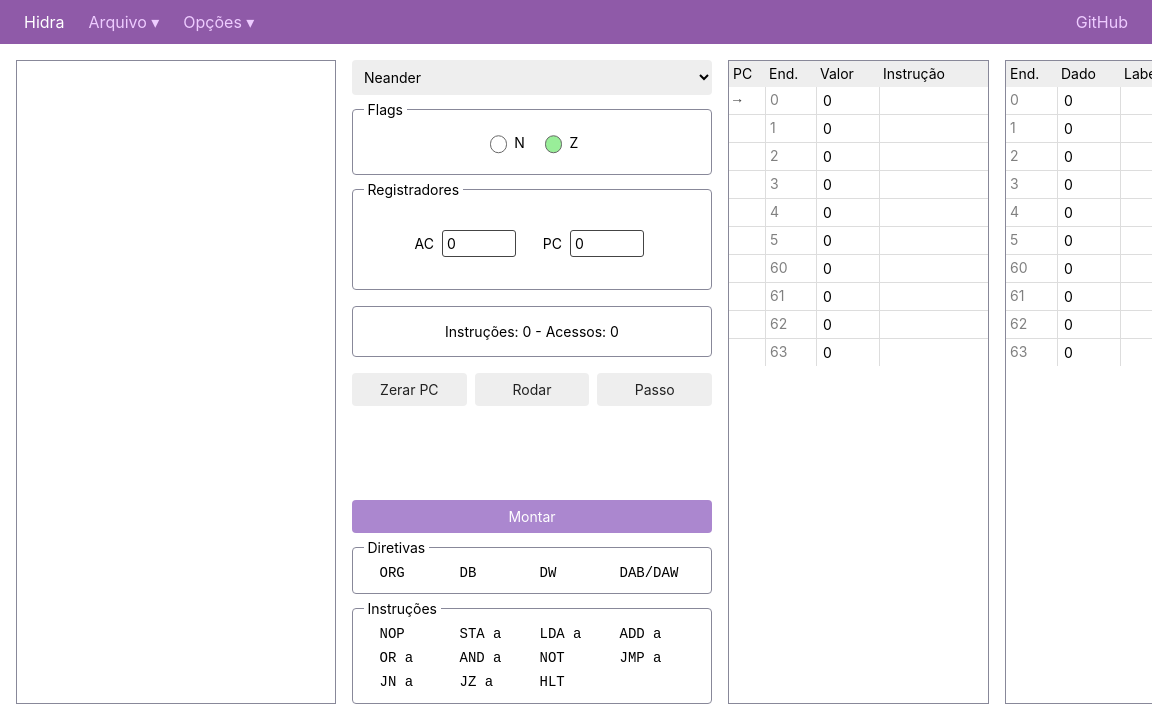
Test: App: Memory Areas › instructions table: should allow editing values
Click the button with test id "build-button".
click(532, 516)  # box [352,500,712,533]
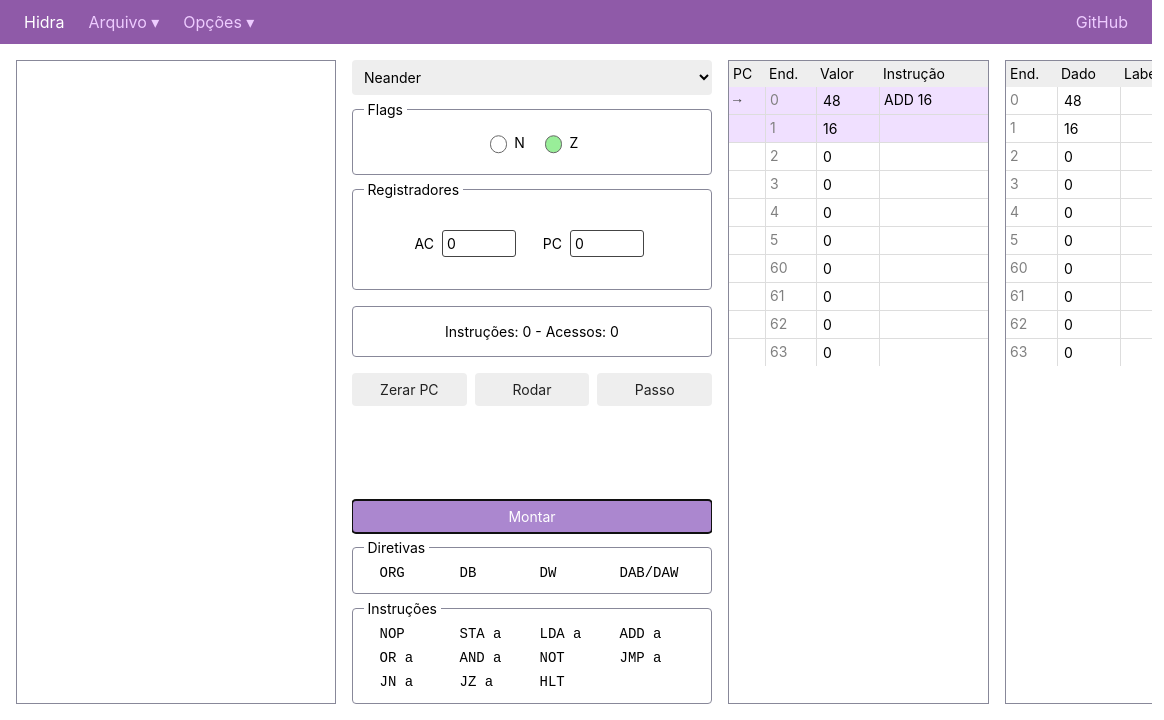
Replace the text in the 3rd field showing "16" with "32" at (848, 128), box [821,119,875,138]
Then press Enter
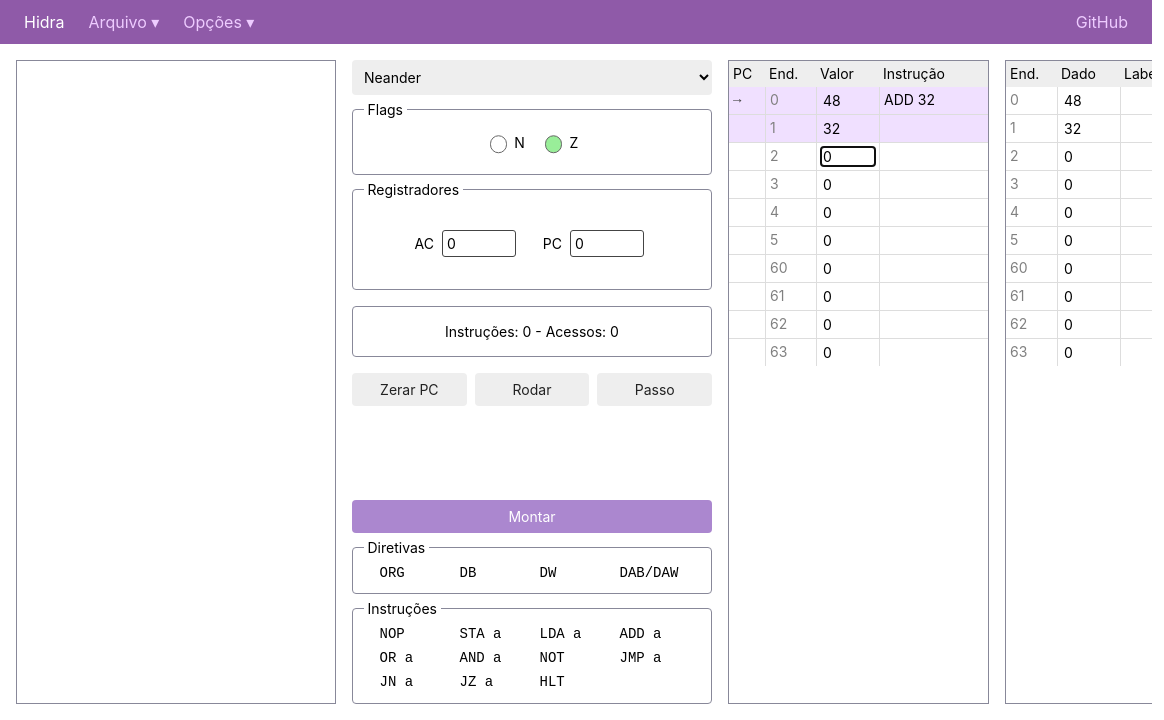
Now the text "ADD 32" is shown, box [879,87,988,114]
Type keys "{shift}{enter}{/shift}{selectall}36{arrowdown}"
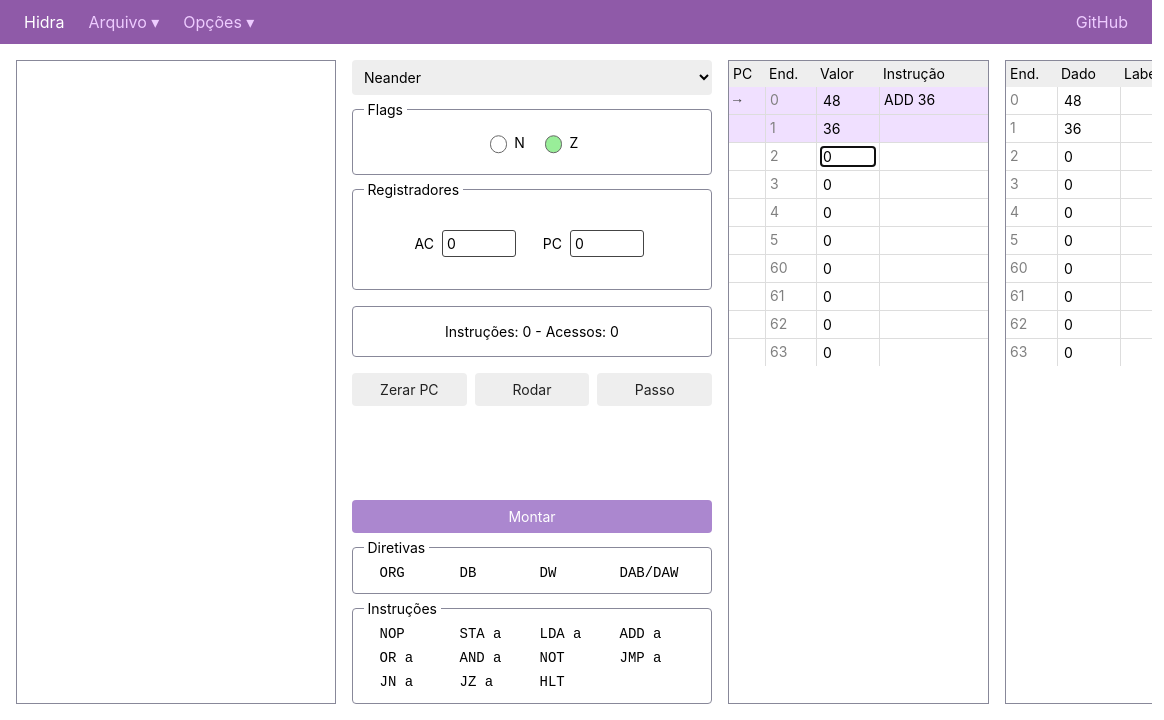
Now the text "ADD 36" is shown, box [879,87,988,114]
Type keys "{arrowup}{selectall}40{arrowup}"
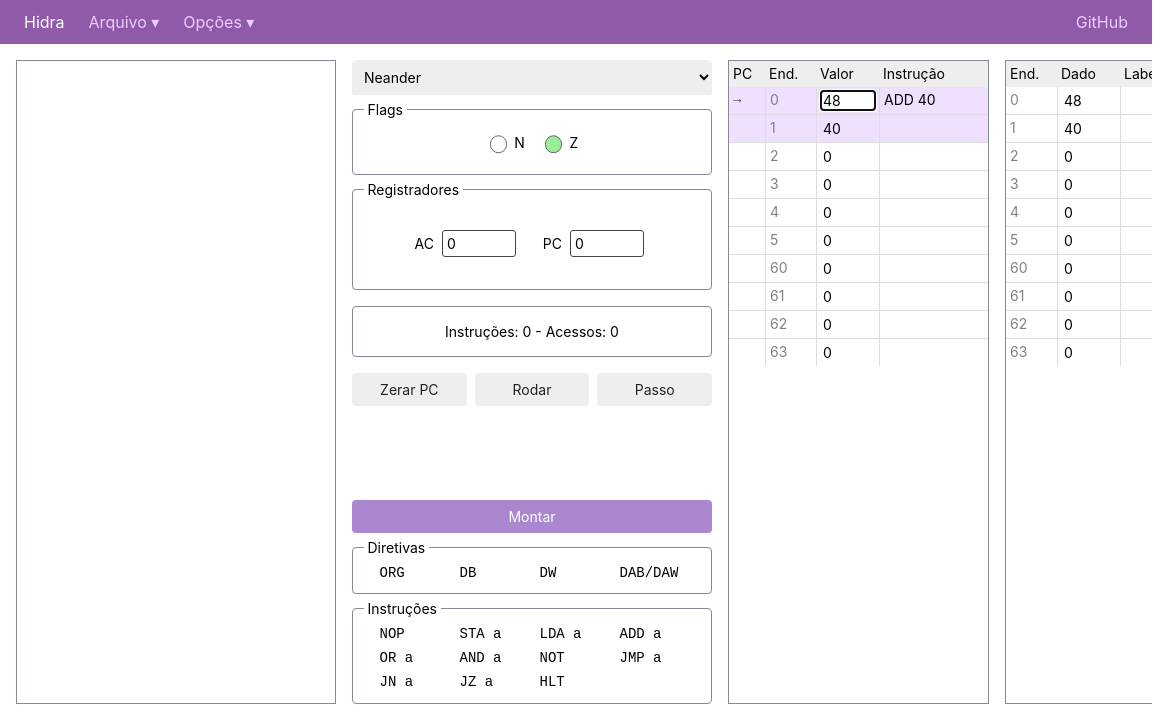
Now the text "ADD 40" is shown, box [879,87,988,114]
